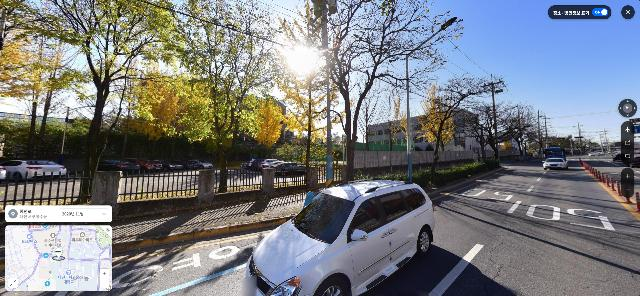ginkgo: (271, 0, 362, 193), (416, 82, 456, 150), (391, 96, 420, 151)
other: (0, 0, 196, 206), (128, 0, 295, 193), (300, 0, 472, 183), (409, 70, 519, 185), (464, 98, 521, 165), (495, 103, 541, 164), (358, 88, 384, 151), (380, 95, 402, 151)
